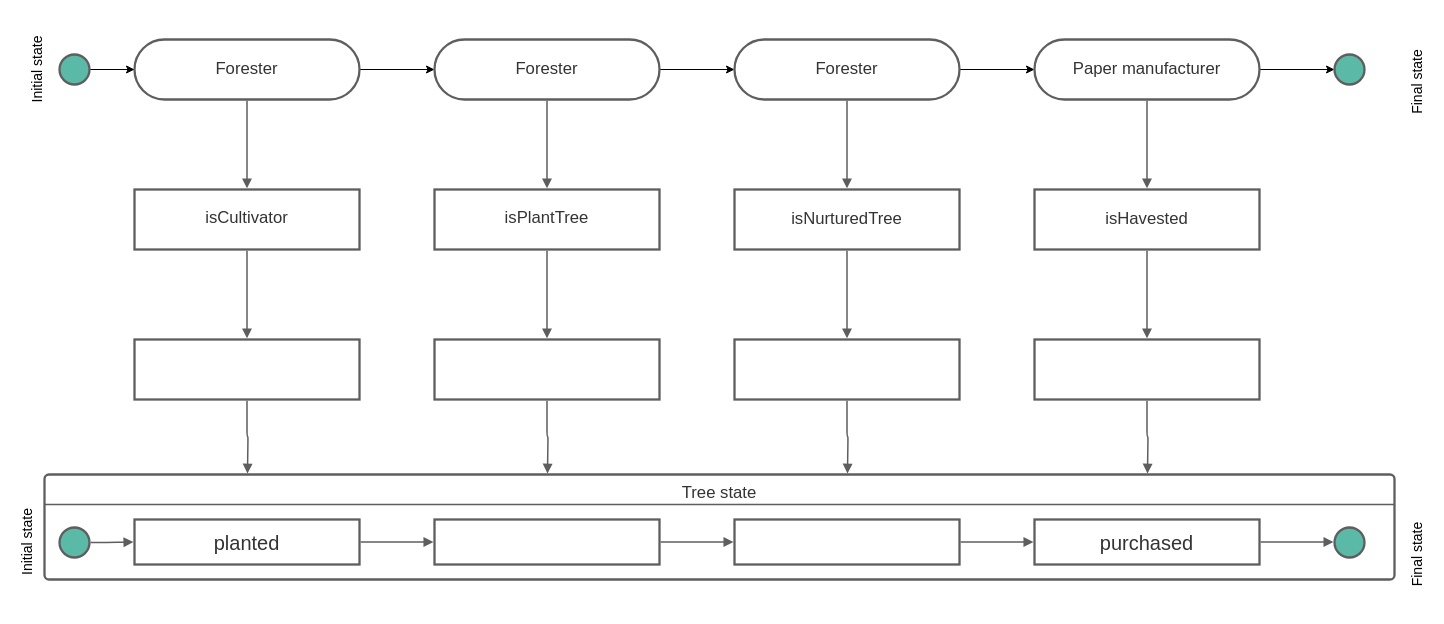
Some shapes in this 1444 by 624 pixel diagram are drawn without their labels. Here are the shapes that lost their labels. From the top down, the box of each, then its label:
(133, 338, 360, 400): plantTree
(433, 338, 660, 400): nurtureTree
(733, 338, 960, 400): harvest
(1033, 338, 1260, 400): purchase
(433, 518, 660, 565): nurtured
(733, 518, 960, 565): harvested
